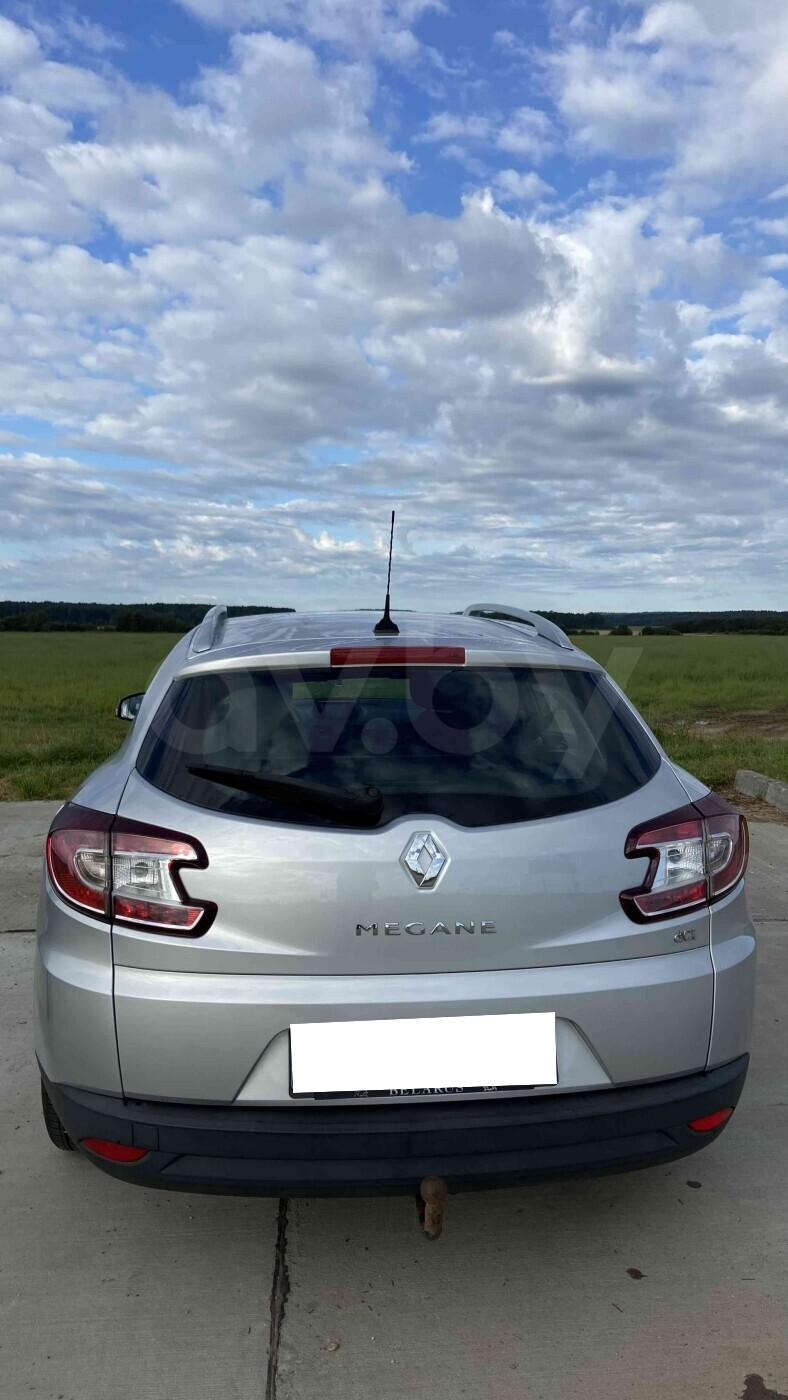Megane_2008-2014: (26, 590, 782, 1218)
